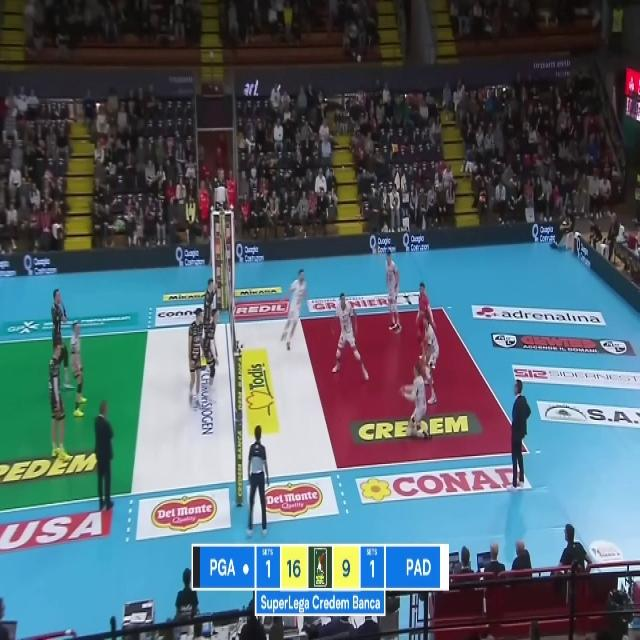volleyball court: (0, 306, 528, 512)
